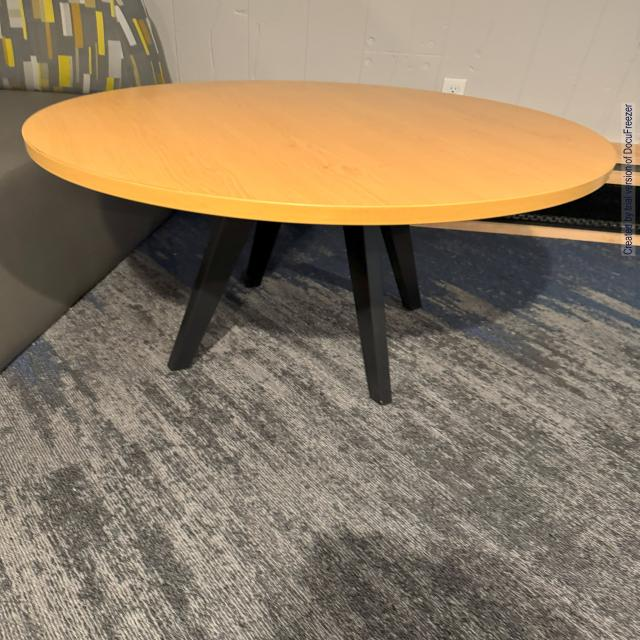Table: (24, 74, 610, 423)
